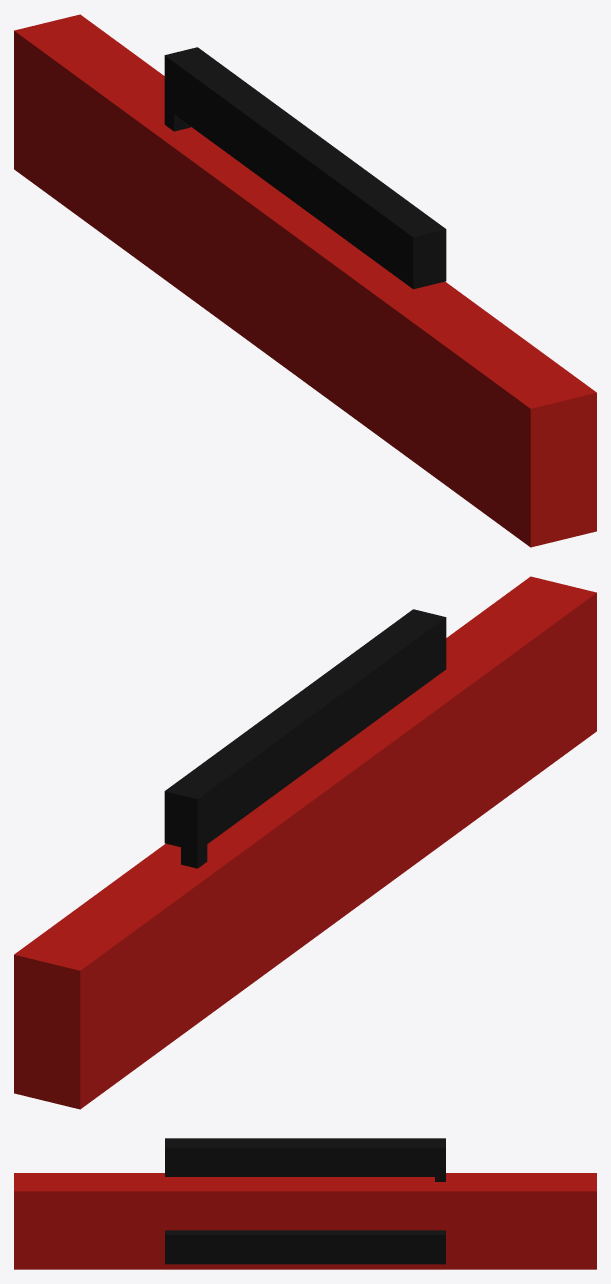
File: convertible_front_bumper.glb
3 views of the same model, one above another, from view 1: azimuth 30°, elevation 25°; view 2: azimuth 150°, elevation 25°; view 3: azimuth 270°, elevation 25° (orthographic). The views are drawn at different scales.
Visible parts, largest first — view 1: body:compound; view 2: body:compound; view 3: body:compound.
Boxes of the visible parts, box(x1,y1,x2,y2) form: body:compound: box(14, 14, 596, 547); body:compound: box(14, 576, 596, 1109); body:compound: box(14, 1138, 596, 1269).
Bounding box in the file's own units: 0.1562 × 0.375 × 1.69.
